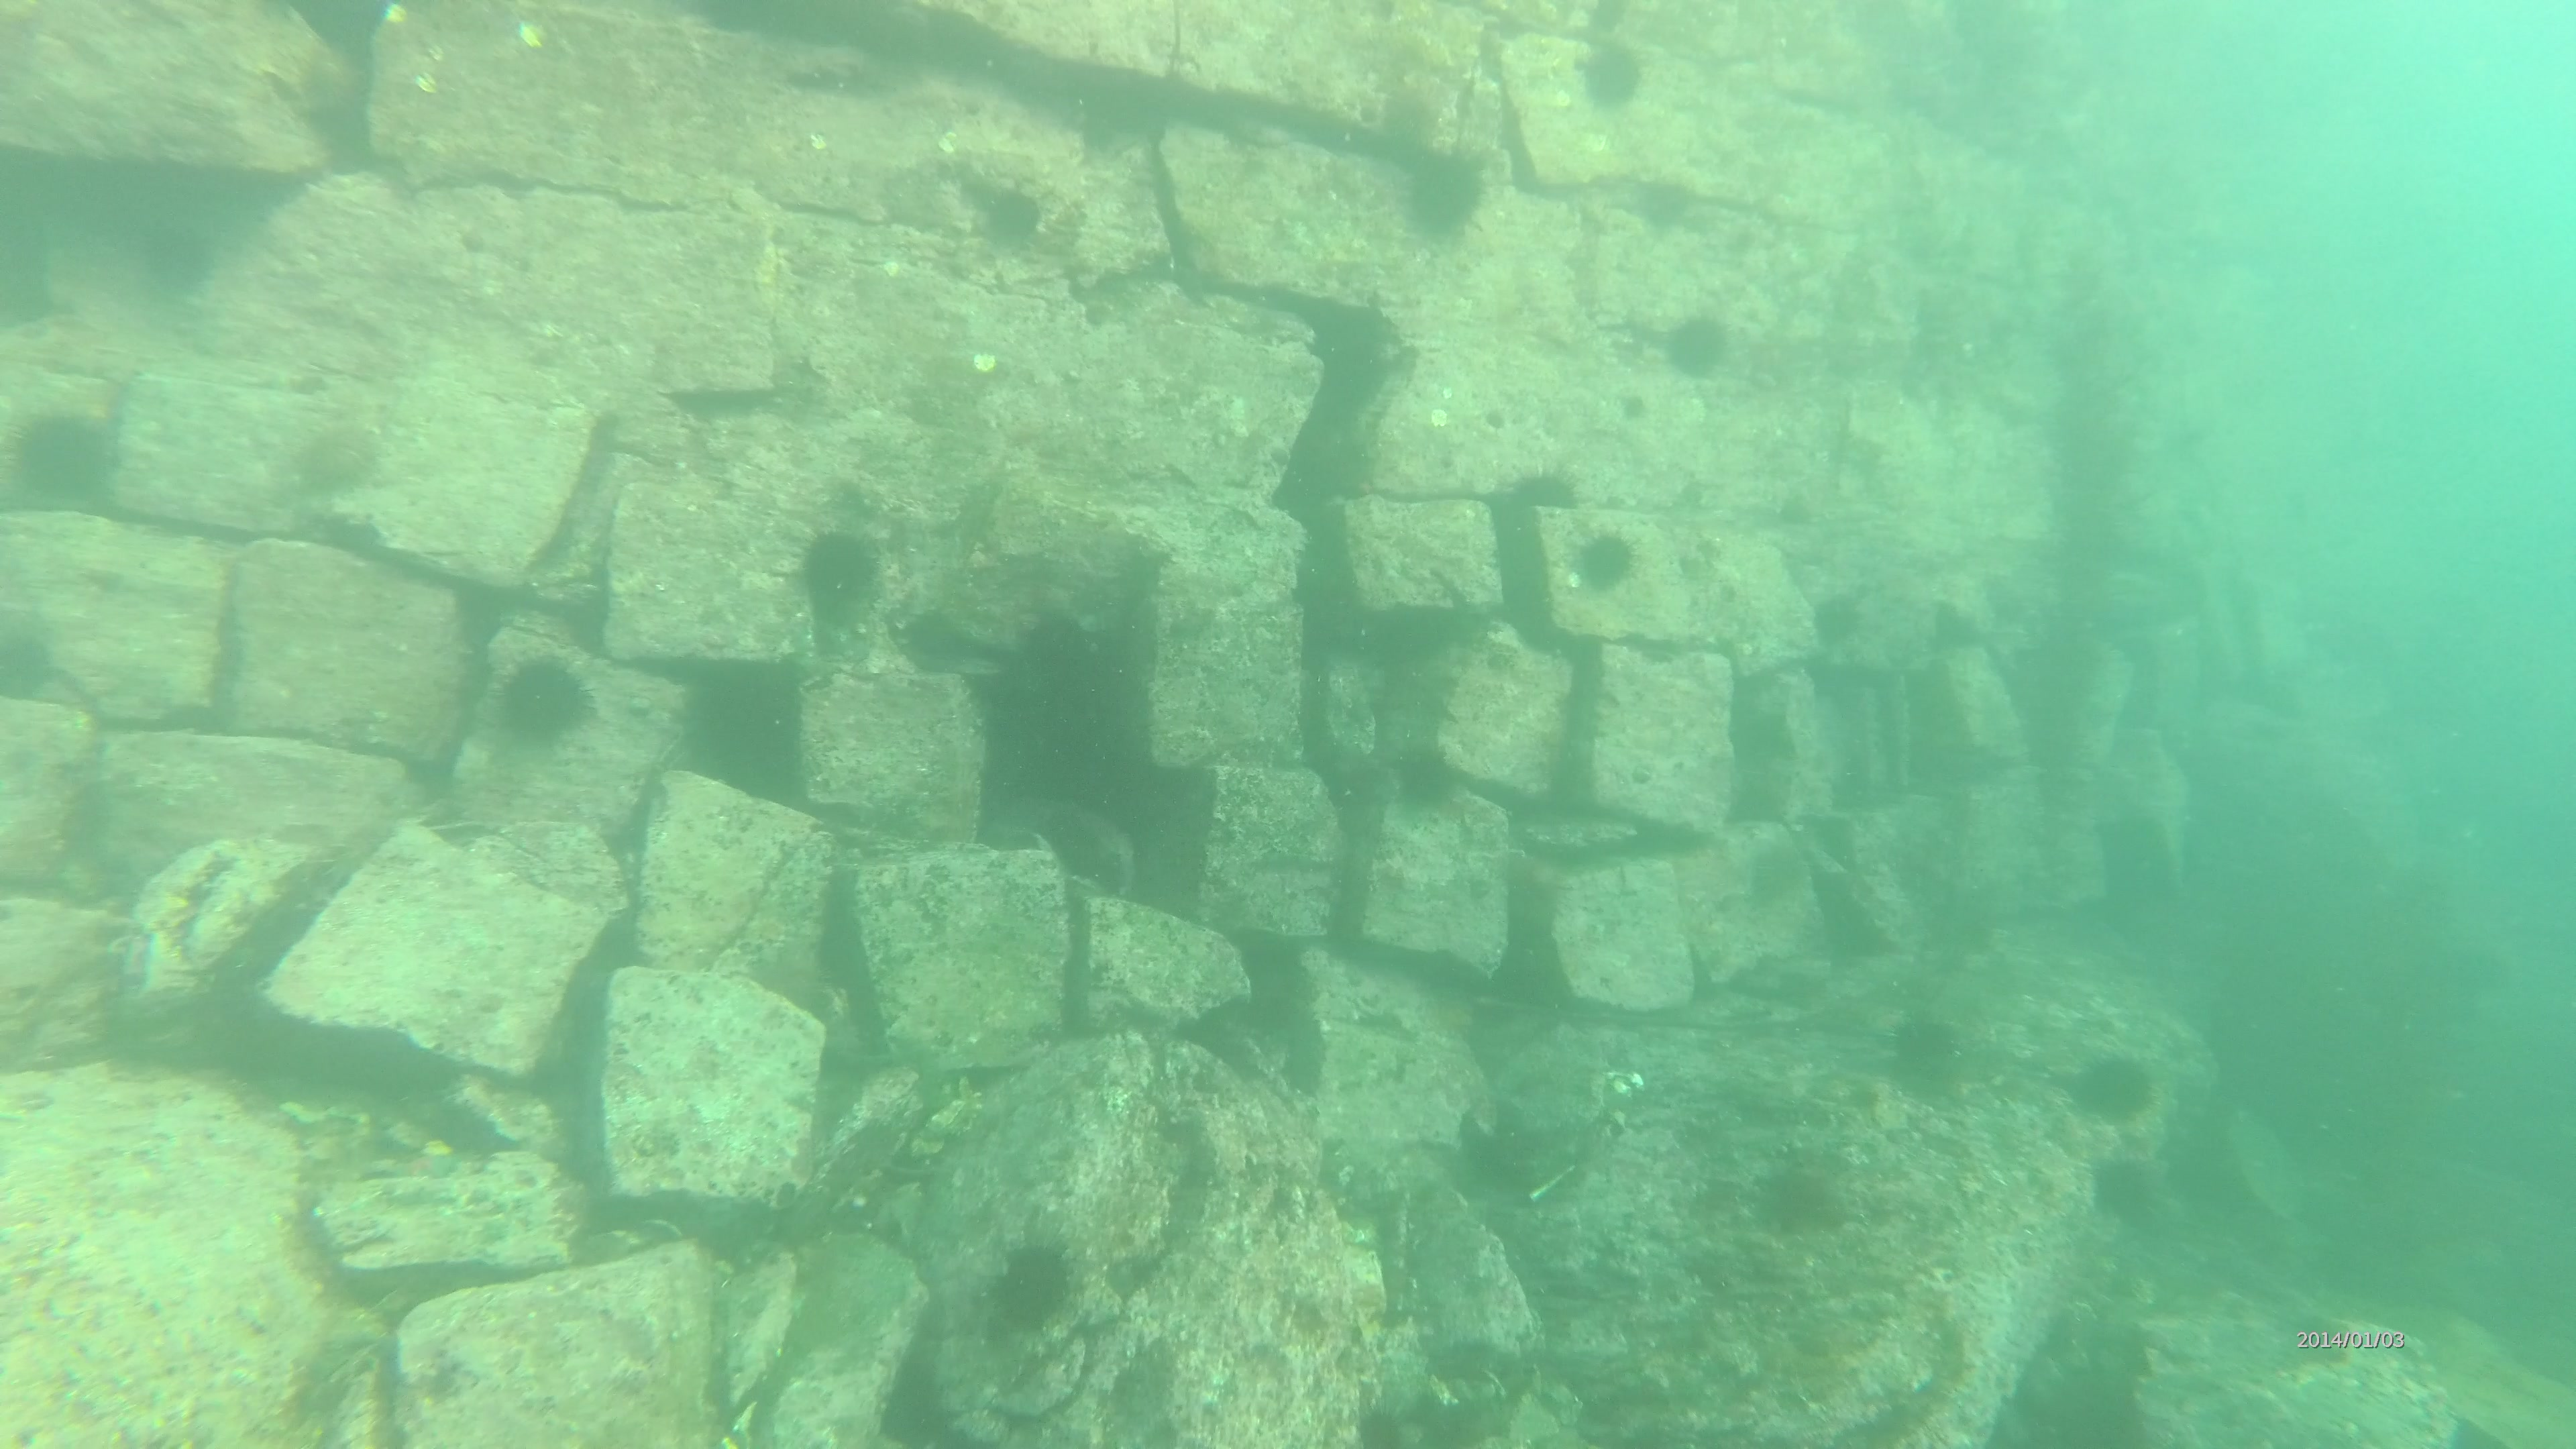echinus: (494, 637, 609, 763), (780, 518, 893, 626), (1389, 142, 1491, 248), (993, 1230, 1083, 1346), (281, 409, 398, 495), (19, 407, 117, 506), (1389, 731, 1465, 826), (1665, 304, 1737, 395), (1573, 517, 1652, 596), (2082, 1044, 2153, 1125), (1576, 37, 1651, 111), (1493, 462, 1587, 518), (2088, 1148, 2150, 1231), (0, 614, 55, 708), (982, 188, 1047, 255)
